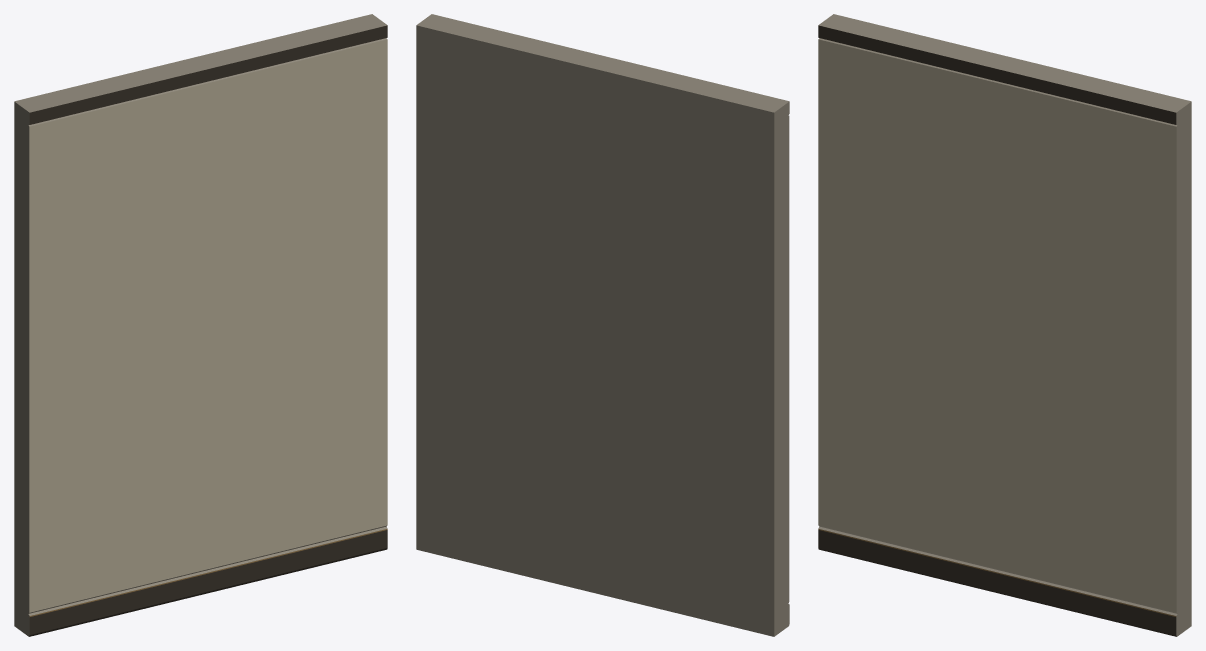
Rendered from mall-wall-module-2m-lod2.glb.
3 renders of one model, left to right at view 1: azimuth 30°, elevation 25°; view 2: azimuth 150°, elevation 25°; view 3: azimuth 330°, elevation 25°, orthographic.
Visible parts, largest first — view 1: Distant finish bands; view 2: Distant finish bands; view 3: Distant finish bands.
Part boxes in pixels (x1,y1,x2,y2): Distant finish bands: [14, 14, 387, 636]; Distant finish bands: [416, 14, 789, 636]; Distant finish bands: [818, 14, 1191, 636].
Bounding box in the file's own units: 2 × 2.8 × 0.15.
